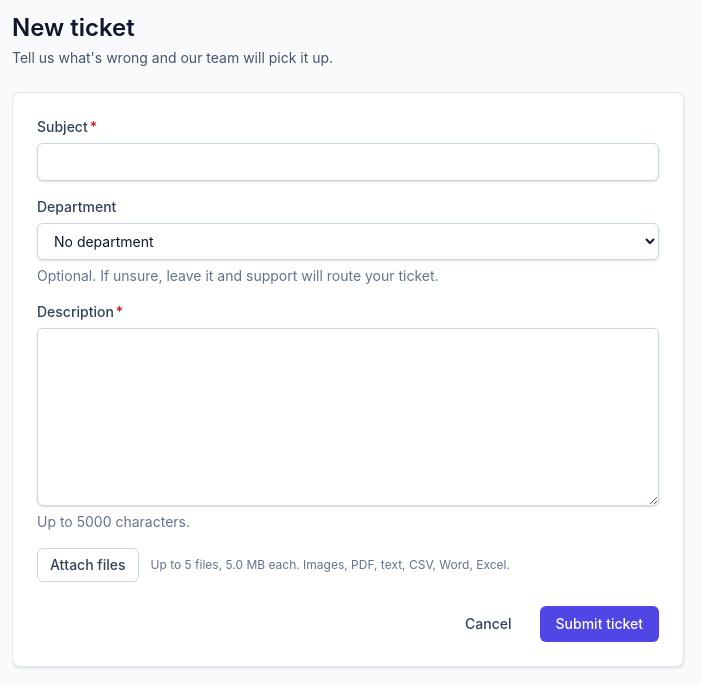
Test case: NewTicketPage › shows backend validation errors on the fields and stays on the form
Step 1. Type "S" into the field labelled "Subject*" → coordinates (348, 162), box left=37, top=143, right=659, bottom=181
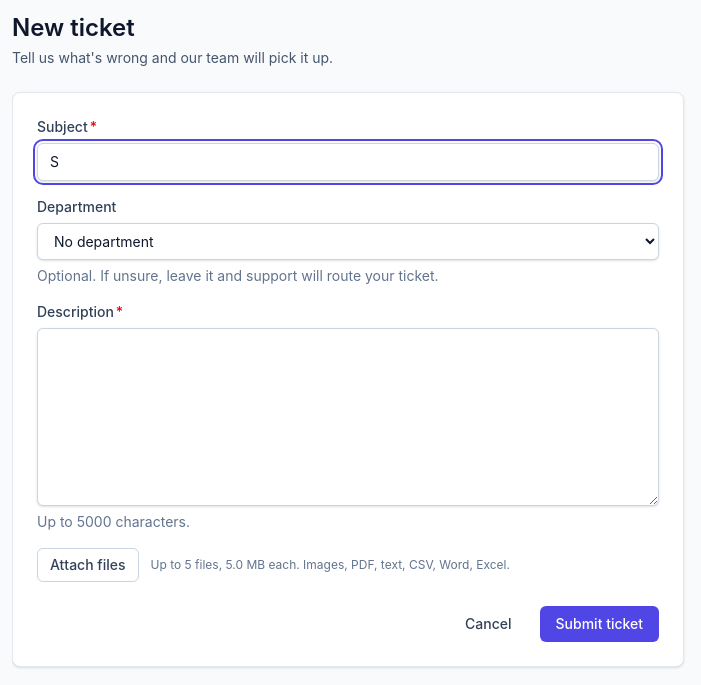
Step 2. Type "D" into the text box labelled "Description*" → coordinates (348, 417), box left=37, top=328, right=659, bottom=506
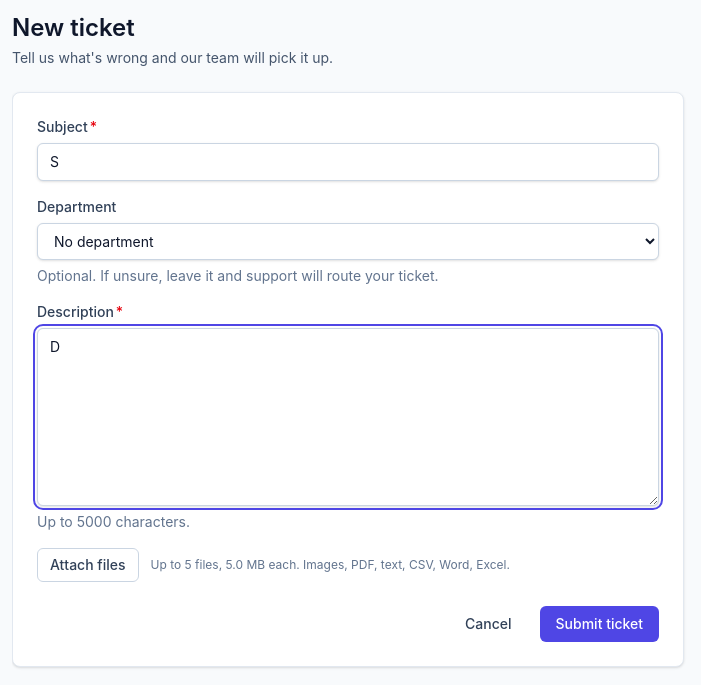
Step 3. Click the button "Submit ticket" → coordinates (599, 624), box left=540, top=606, right=659, bottom=642
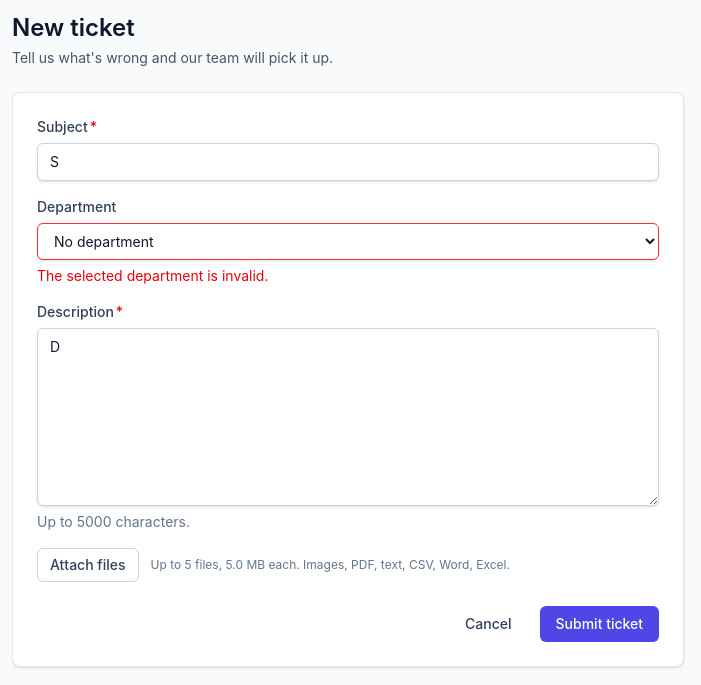
Result: the text "The selected department is invalid." is shown at left=37, top=267, right=268, bottom=284
